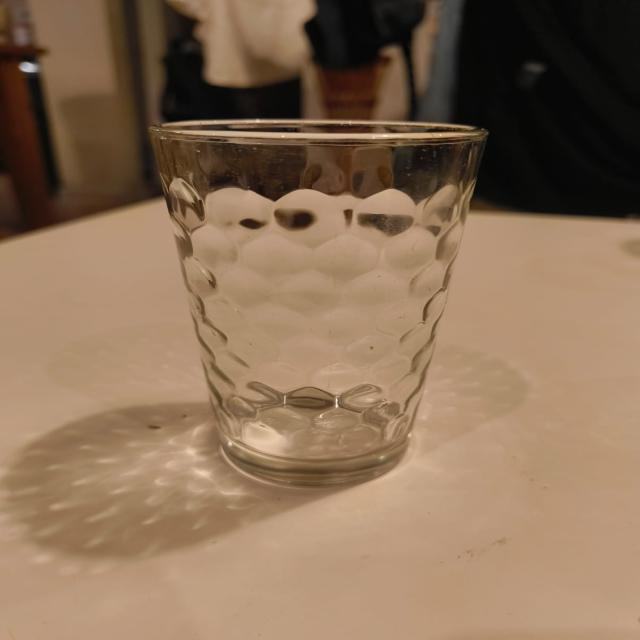ok g2: (149, 117, 488, 489)
